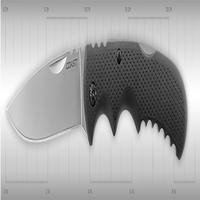knife: (4, 36, 195, 166)
